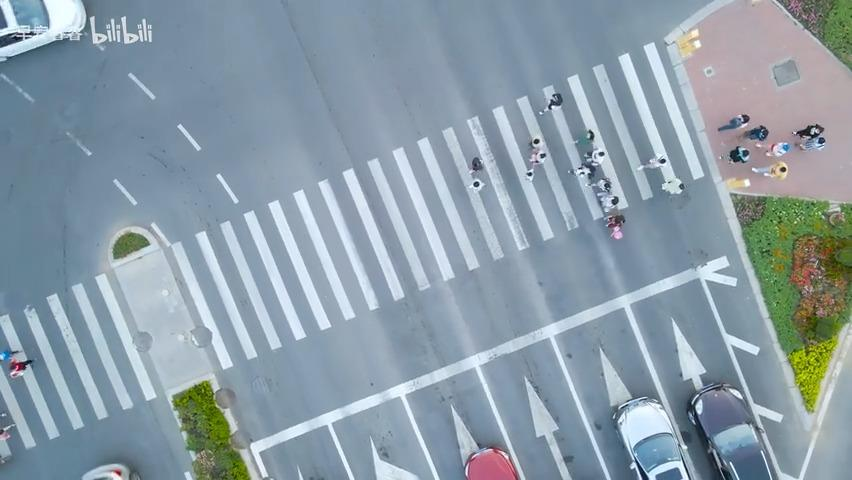Civilian: (751, 160, 788, 180), (466, 156, 486, 192), (8, 356, 35, 378), (717, 113, 750, 131), (718, 145, 750, 163), (754, 141, 790, 157), (737, 124, 768, 142), (538, 92, 563, 114), (605, 212, 625, 239), (791, 123, 824, 139), (636, 154, 667, 171), (661, 176, 685, 196), (585, 176, 612, 193), (798, 135, 826, 151), (529, 137, 546, 162), (583, 148, 605, 165), (567, 163, 593, 177), (520, 163, 541, 180), (598, 194, 619, 211), (574, 128, 595, 144), (725, 176, 750, 189), (466, 178, 486, 192), (828, 211, 845, 227), (468, 156, 483, 174), (0, 349, 20, 361), (0, 426, 11, 441), (529, 137, 541, 148), (585, 128, 595, 140)
